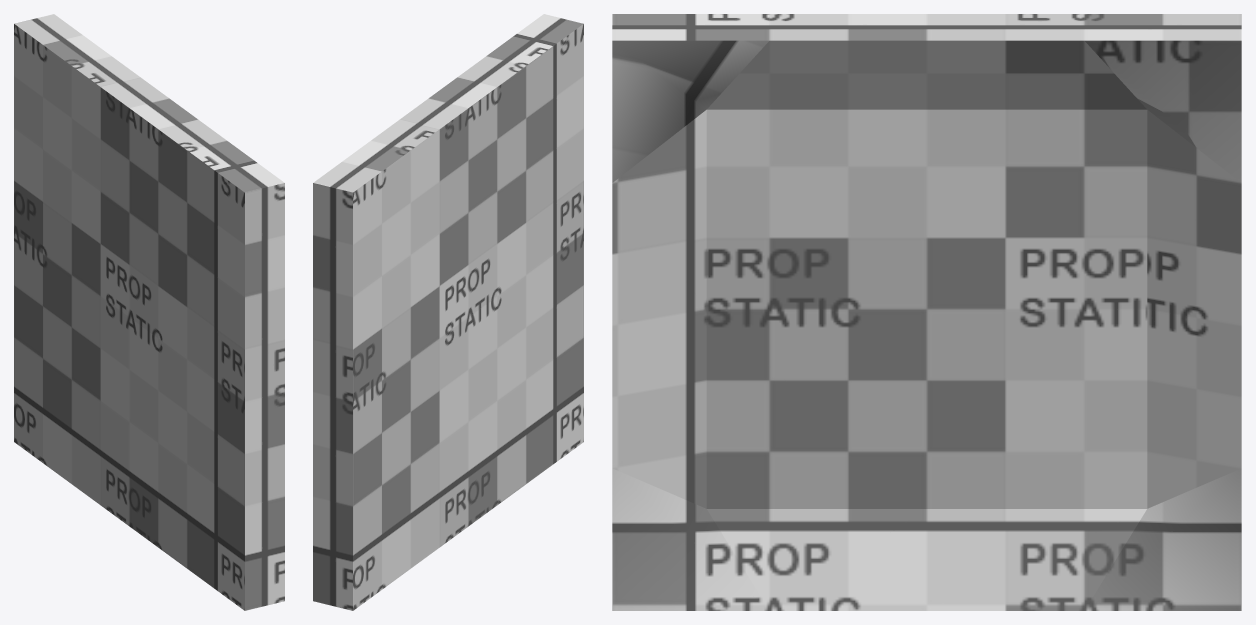
Rendered from JMB_Painting.fbx.
3 renders of one model, left to right at view 1: azimuth 30°, elevation 25°; view 2: azimuth 150°, elevation 25°; view 3: azimuth 270°, elevation 25°, orthographic. The views are drawn at different scales.
Parts seen in each view (by area): view 1: JMB_Painting; view 2: JMB_Painting; view 3: JMB_Painting.
Part boxes in pixels (x1=…): JMB_Painting: x1=14, y1=14, x2=284, y2=610; JMB_Painting: x1=313, y1=14, x2=583, y2=610; JMB_Painting: x1=612, y1=14, x2=1241, y2=610.
Bounding box in the file's own units: 10 × 100 × 100.
